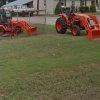Tractor: (51, 3, 100, 37)
